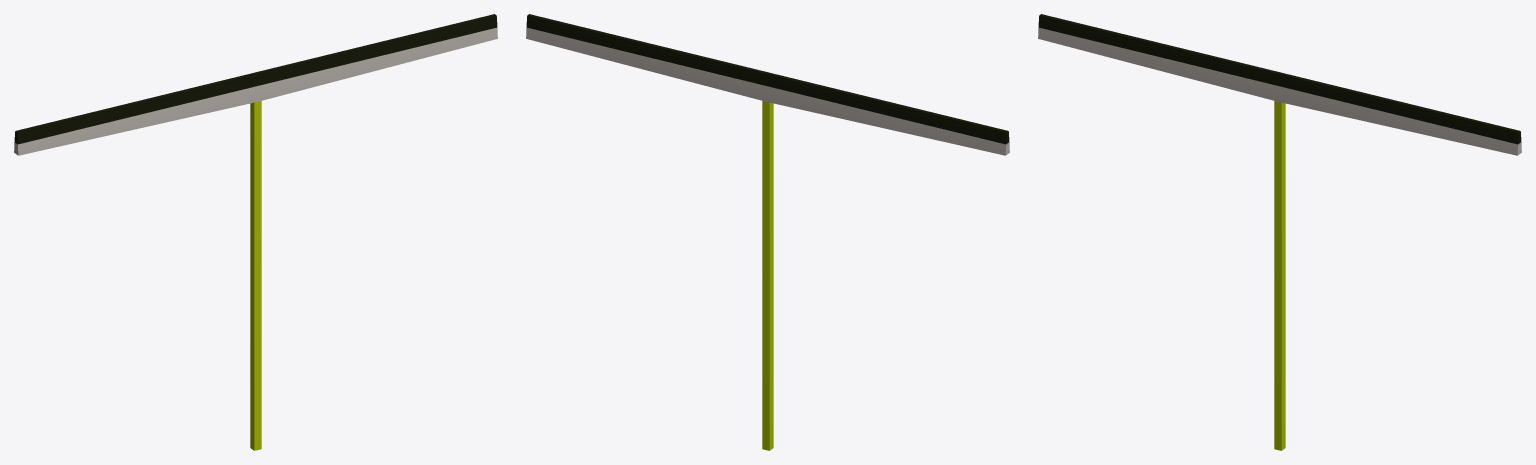
The model's file is Wide_Tool2.fbx.
The picture shows the model from 3 angles, left to right: view 1: azimuth 30°, elevation 25°; view 2: azimuth 150°, elevation 25°; view 3: azimuth 330°, elevation 25°; orthographic projection.
Visible parts, largest first — view 1: Wide_Tool; view 2: Wide_Tool; view 3: Wide_Tool.
Part boxes in pixels (<box>): Wide_Tool: <box>14,14,497,450</box>; Wide_Tool: <box>526,14,1009,450</box>; Wide_Tool: <box>1038,14,1521,450</box>.
Size of the model in its own units: 65.21 by 48.76 by 1.
